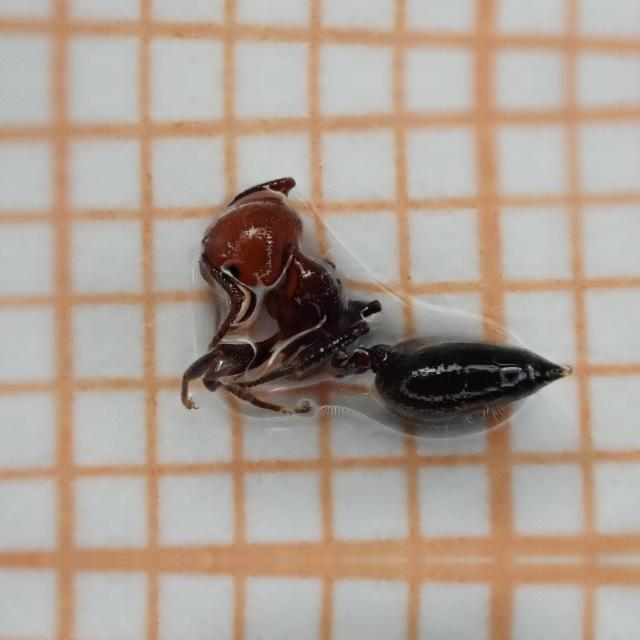Crematogaster: (142, 168, 578, 492)
